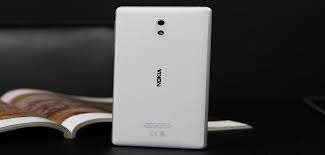nokia: (111, 7, 212, 150)
